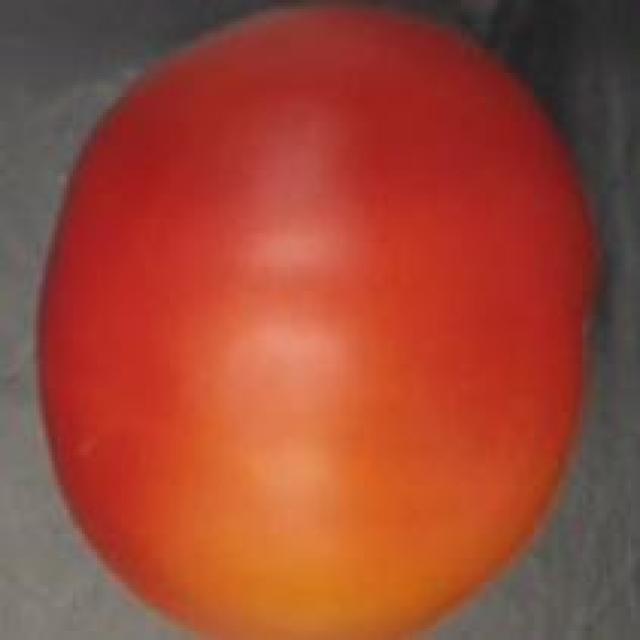overripe tomato: (30, 6, 610, 640)
